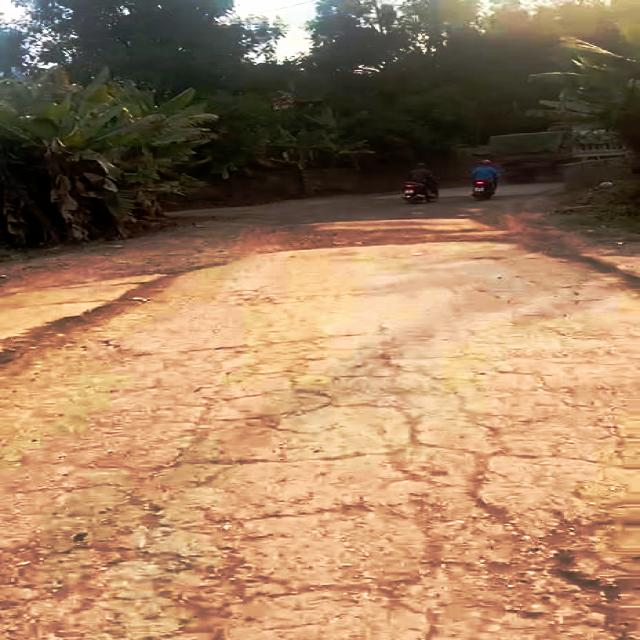pothole: (447, 499, 640, 640)
